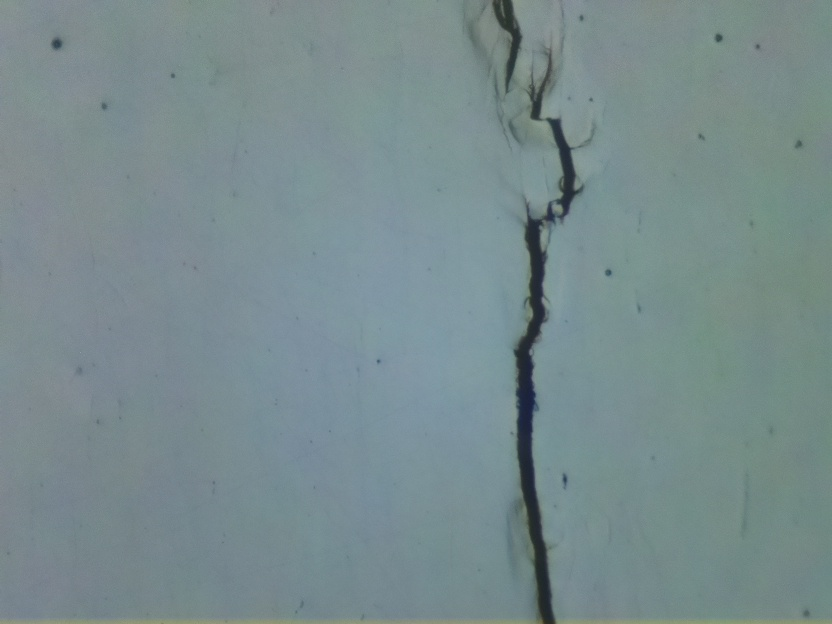crack: (518, 50, 584, 624), (489, 0, 524, 112)
